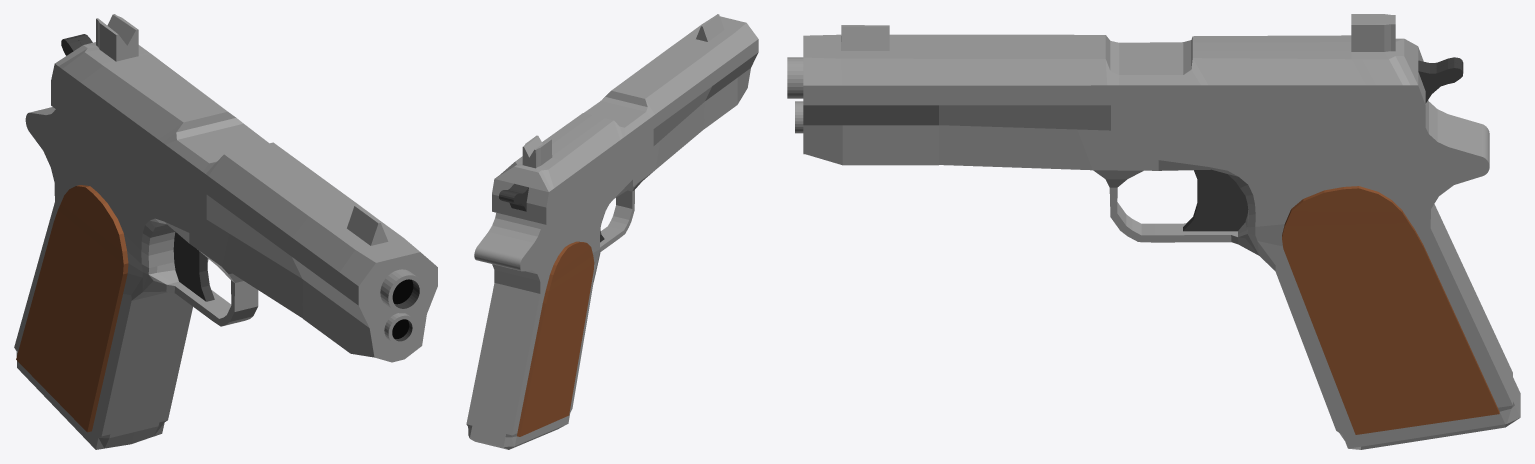
File: pistol.fbx
3 renders of one model, left to right at view 1: azimuth 30°, elevation 25°; view 2: azimuth 150°, elevation 25°; view 3: azimuth 270°, elevation 25°, orthographic. The views are drawn at different scales.
Parts seen in each view (by area): view 1: Cube; view 2: Cube; view 3: Cube.
Boxes of the visible parts, x1,y1,x2,y2 form: Cube: (14,14,437,449); Cube: (466,14,758,449); Cube: (787,14,1520,449).
Bounding box in the file's own units: 126 × 631 × 1003.
